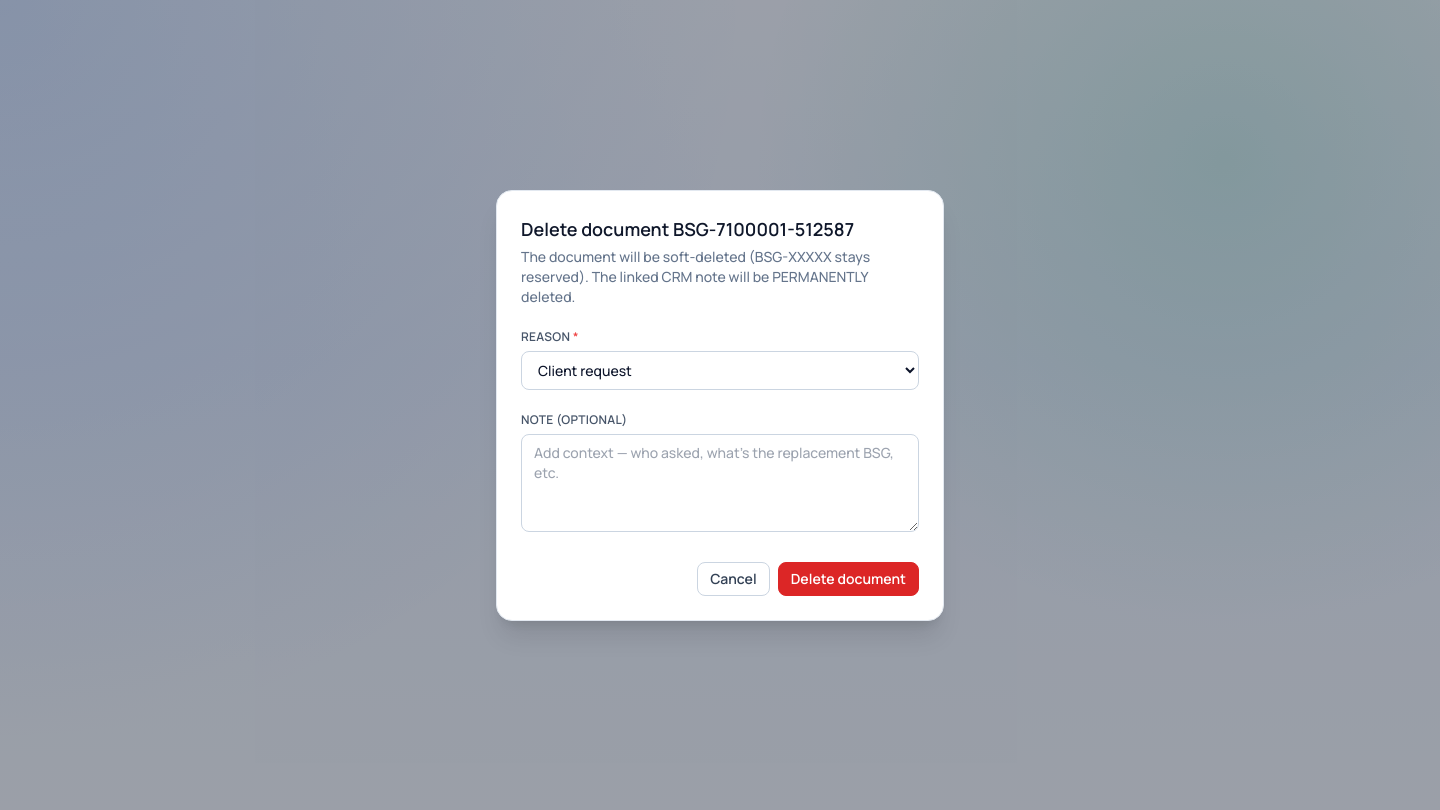
Test: DeleteDocumentModal — server errors › surfaces DOCUMENT_ALREADY_DELETED inline
Click the button "Delete document": point(848, 578) [778,562,919,596]
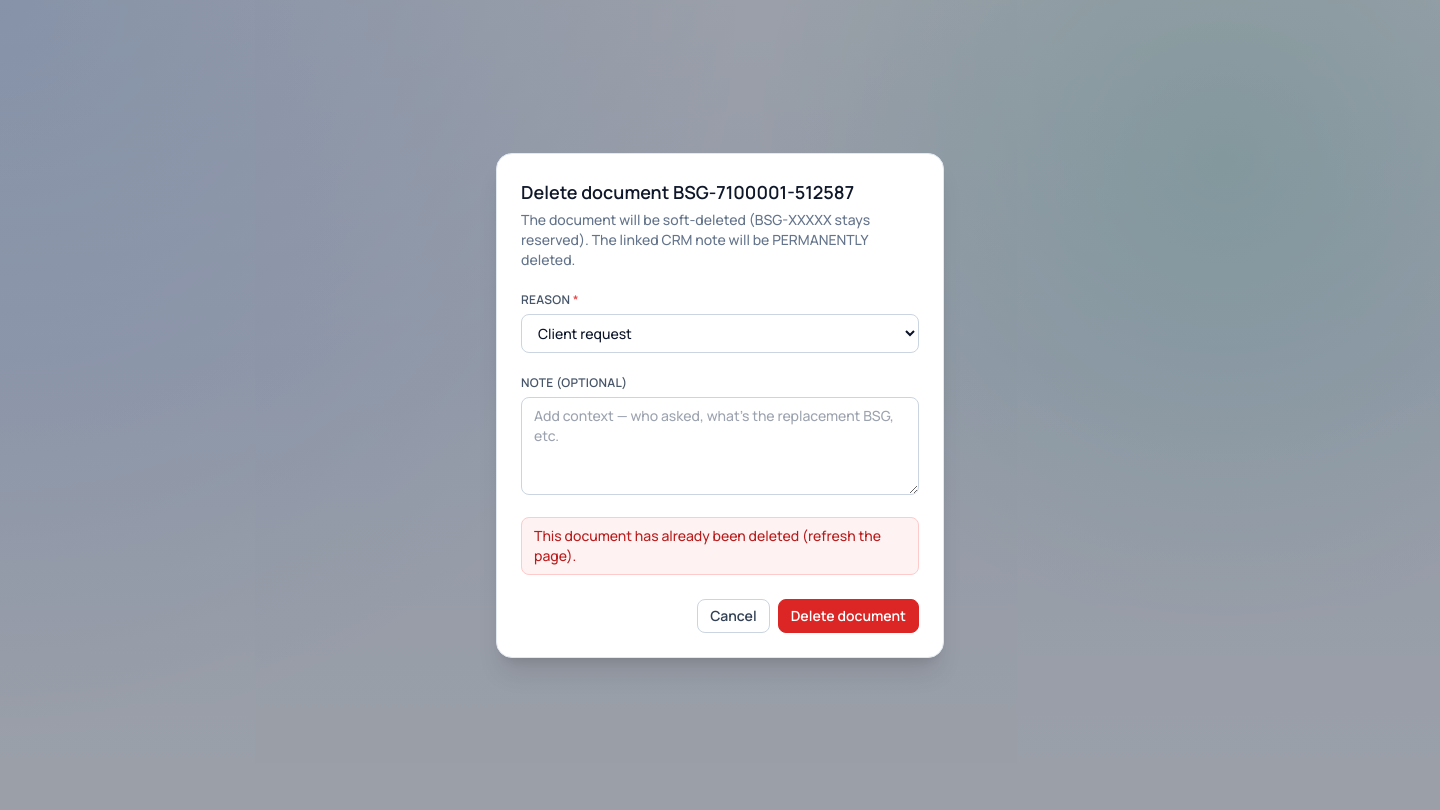
Expected: the text "This document has already been deleted (refresh the page)." is shown, [521,516,919,574]
